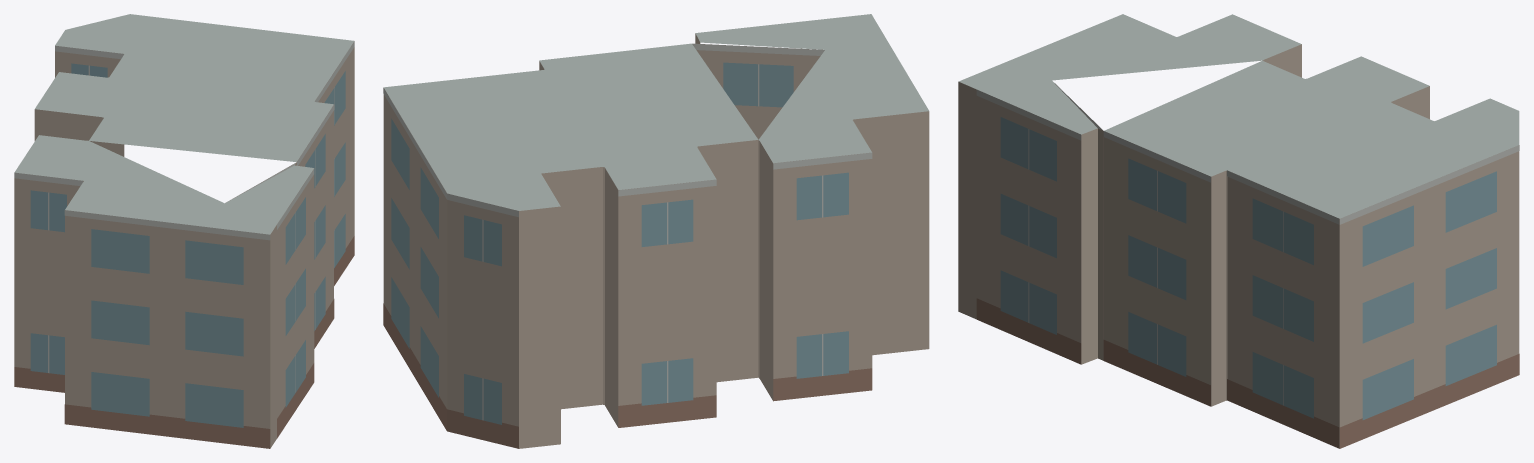
The model's file is survey-upis-32474415.glb.
3 renders of one model, left to right at view 1: azimuth 30°, elevation 25°; view 2: azimuth 150°, elevation 25°; view 3: azimuth 270°, elevation 25°, orthographic. The views are drawn at different scales.
Parts seen in each view (by area): view 1: survey-upis-32474415.tmp; view 2: survey-upis-32474415.tmp; view 3: survey-upis-32474415.tmp.
Boxes of the visible parts, x1,y1,x2,y2 form: survey-upis-32474415.tmp: [14, 14, 354, 448]; survey-upis-32474415.tmp: [383, 14, 929, 448]; survey-upis-32474415.tmp: [958, 14, 1519, 448].
Size of the model in its own units: 17.47 by 9.15 by 20.23.
